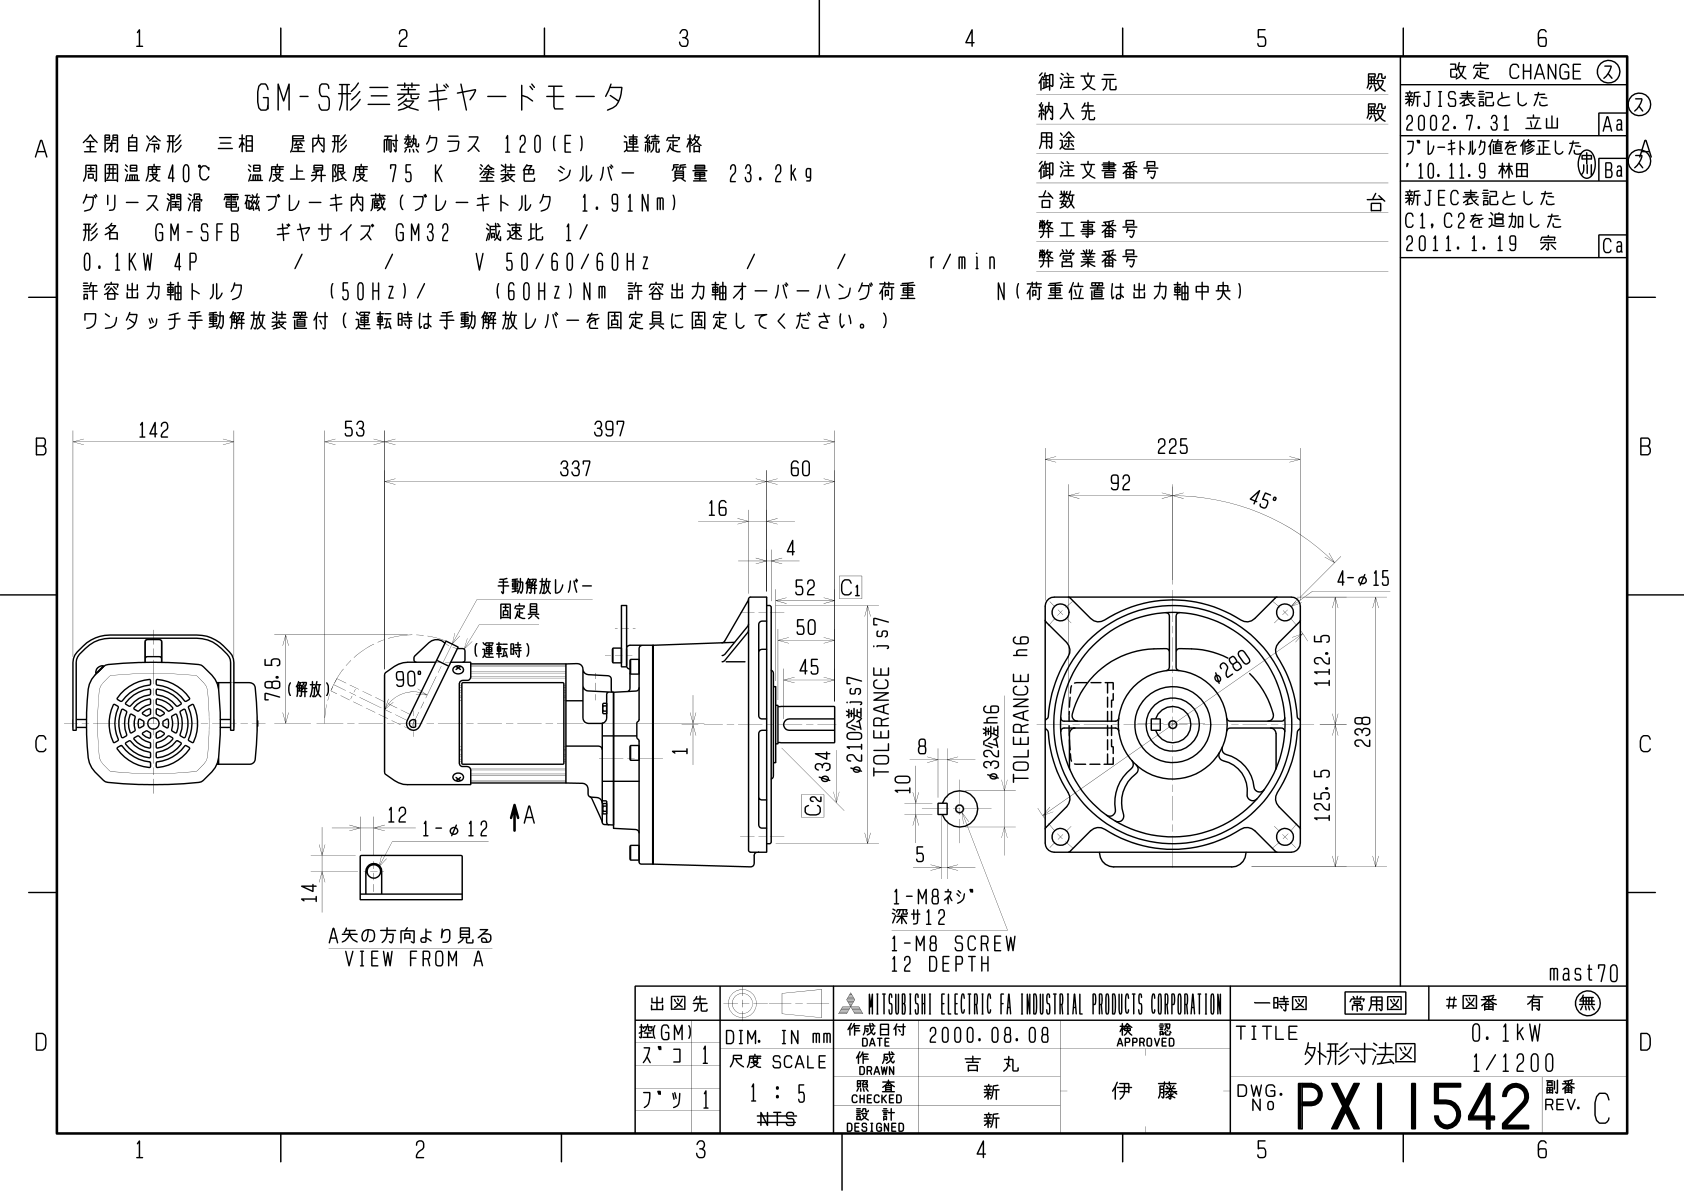GM_S_手動ブレーキ＿三相_フランジ: (1, 1, 1684, 1191)
